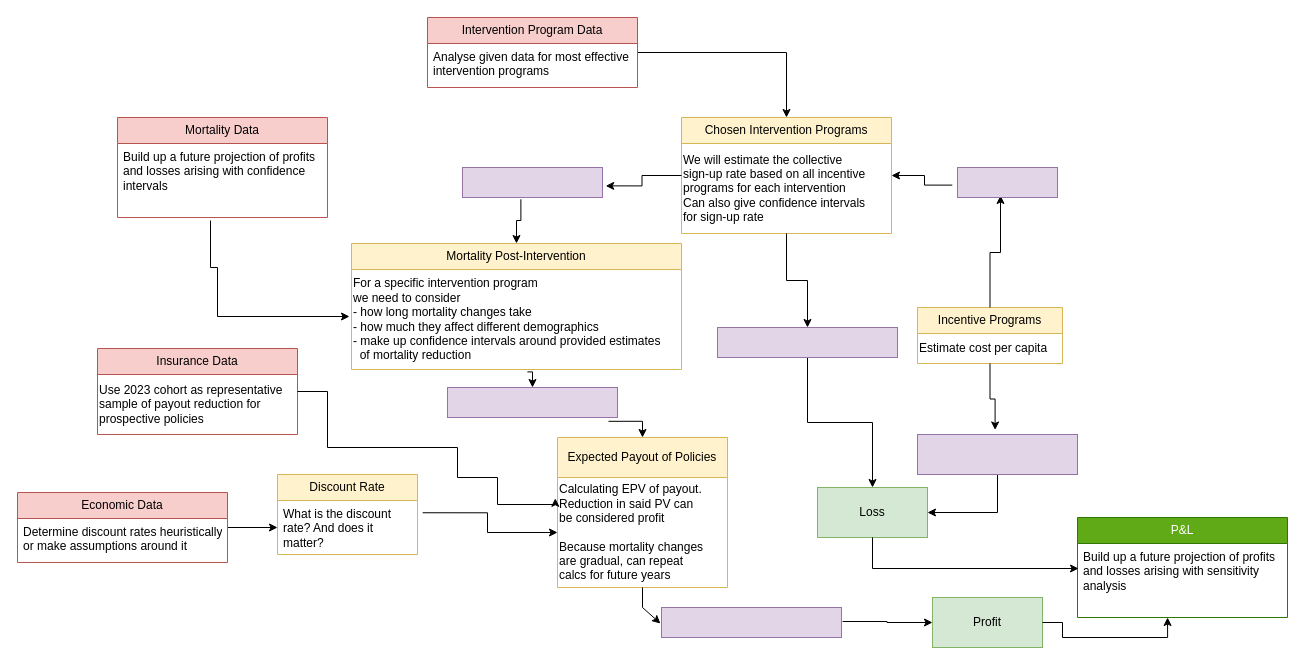
Some shapes in this 1305 by 665 pixel diagram are drawn without their labels. Each missing label, with the centre of its shape:
Cost of Incentive Program and sign-up rate: the point at 997,454
Cost of Intervention Program: the point at 807,342
Lower expected payout costs: the point at 751,622
Lowers Mortality Rate: the point at 532,182
Lowers probability of payout: the point at 532,402
Sign-Up Rates: the point at 1007,182
